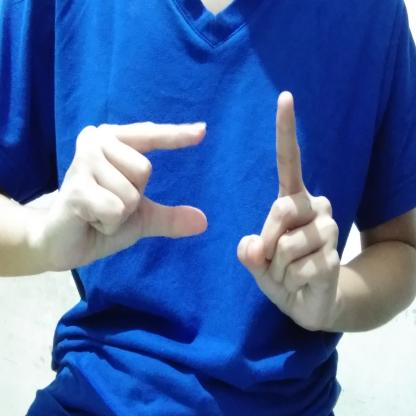daughter: (61, 88, 351, 340)
